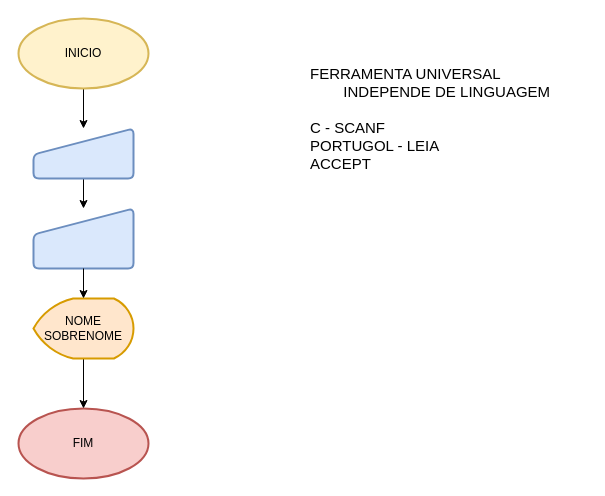
This 605x496 diagram has some shape labels left out. Here are the shapes that lost their labels. From the top down, the centre of each, then its label:
At (x=83, y=153): "NOME".
At (x=83, y=238): "SOBRENOME".
